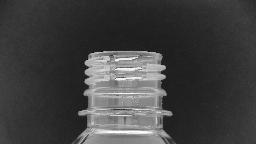No Cap: (75, 46, 177, 122)
